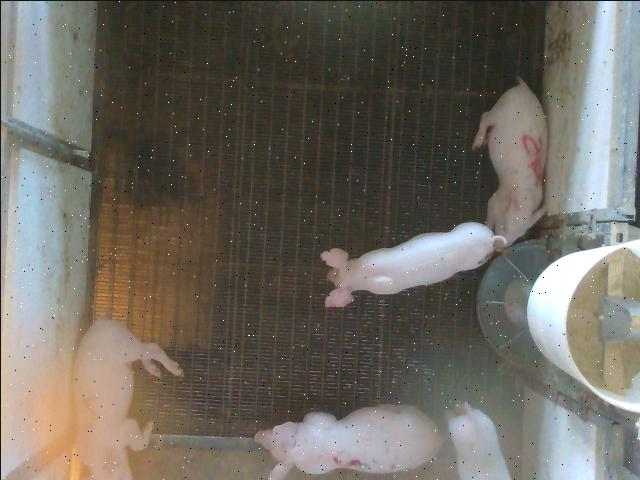pig-2: (74, 316, 182, 479)
pig-3: (254, 404, 442, 479)
pig-5: (471, 76, 546, 244)
